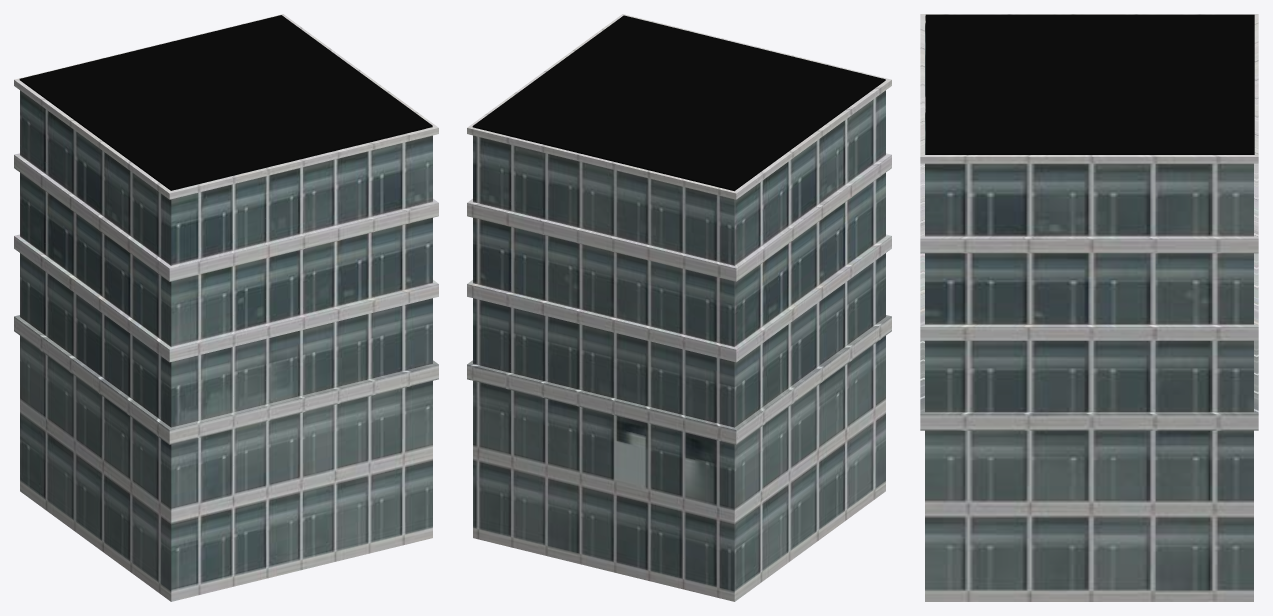
The model's file is building1 1.fbx.
3 views of the same model, side by side, from view 1: azimuth 30°, elevation 25°; view 2: azimuth 150°, elevation 25°; view 3: azimuth 270°, elevation 25° (orthographic). The views are drawn at different scales.
Visible parts, largest first — view 1: Box013, Object006; view 2: Box013, Object006; view 3: Box013, Object006.
Boxes of the visible parts, left/top/right/bottom form: Box013: left=14, top=14, right=438, bottom=601; Object006: left=19, top=15, right=432, bottom=190; Box013: left=467, top=14, right=891, bottom=601; Object006: left=472, top=15, right=885, bottom=191; Box013: left=920, top=14, right=1258, bottom=601; Object006: left=925, top=14, right=1254, bottom=154.
Bounding box in the file's own units: 0.9962 × 1.46 × 0.9962.
2 materials, 1 textured.
